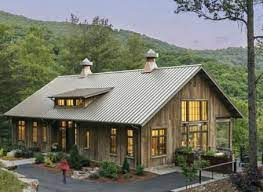Tin-shade House: (9, 58, 239, 161)
